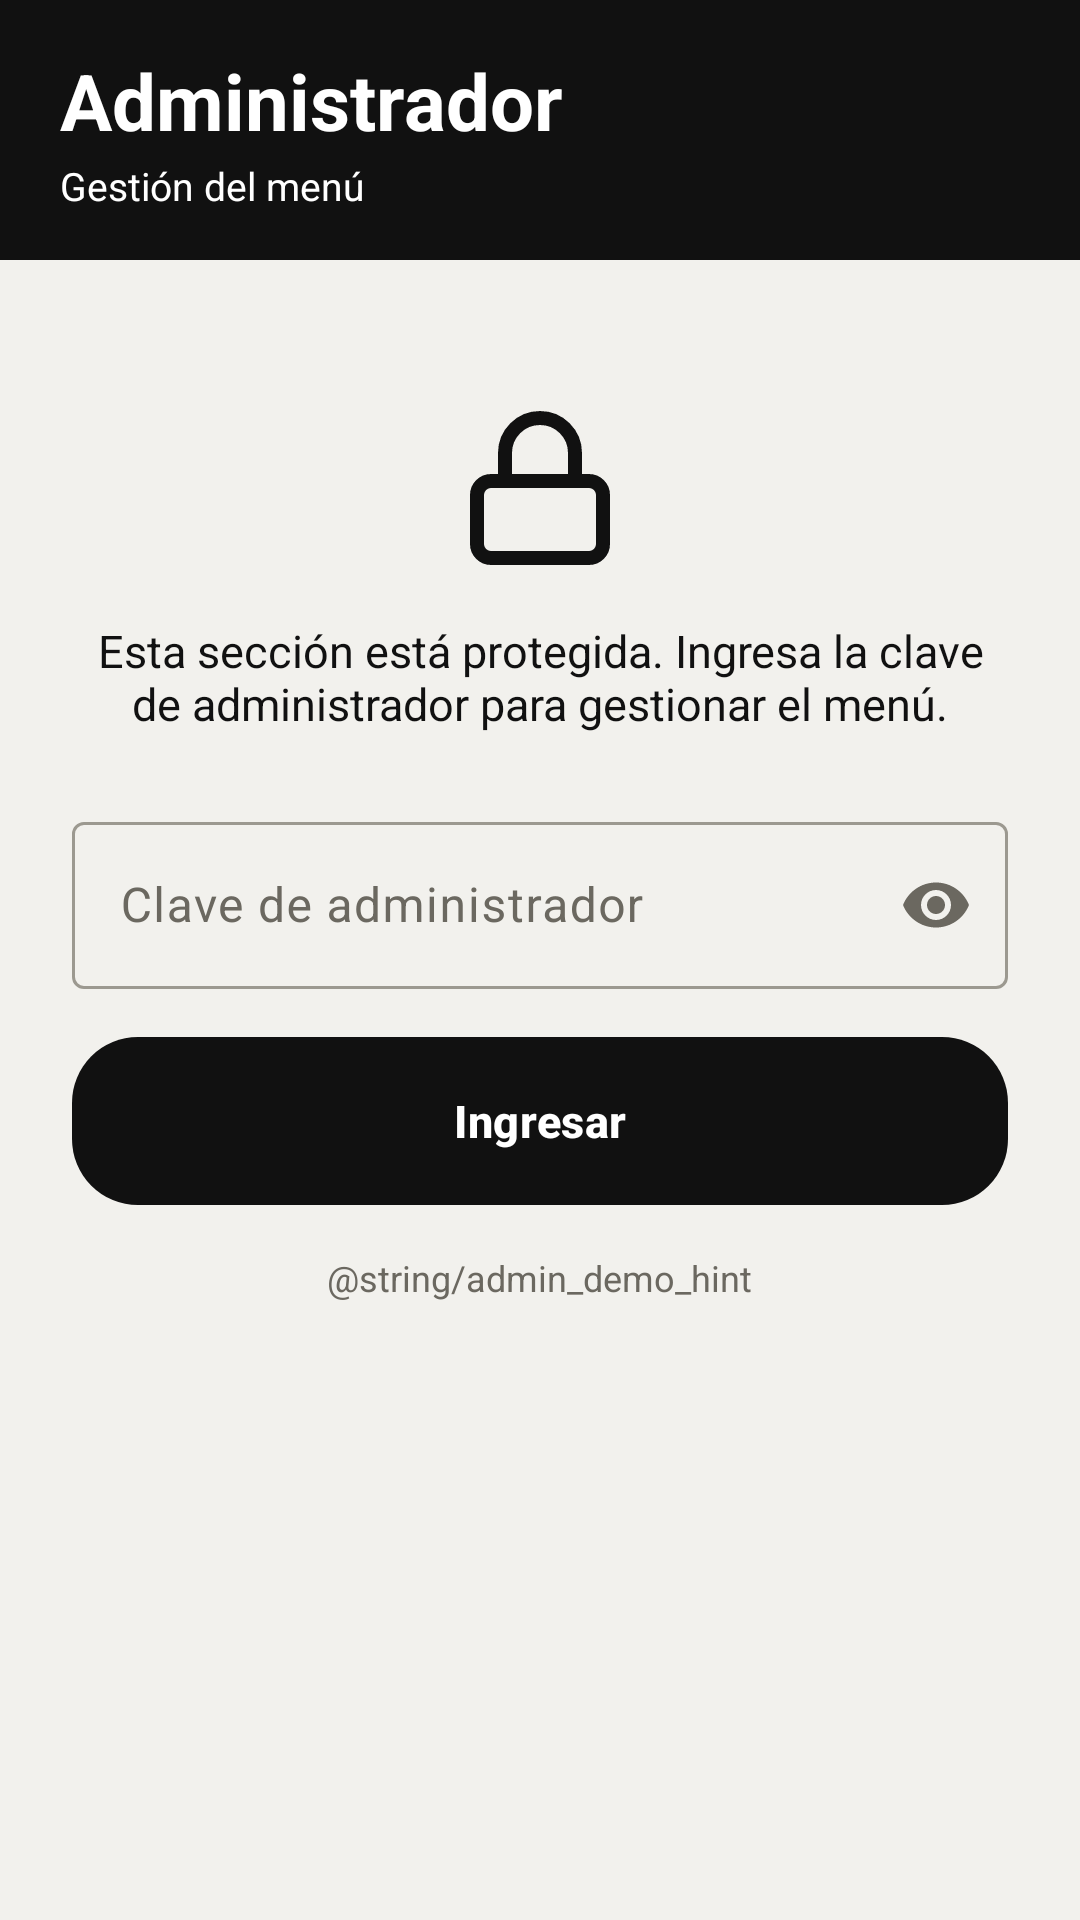

Icon click points for this 1080px x 1920px phone screenshot, format (x=x, y=y):
lock: (x=540, y=488)
